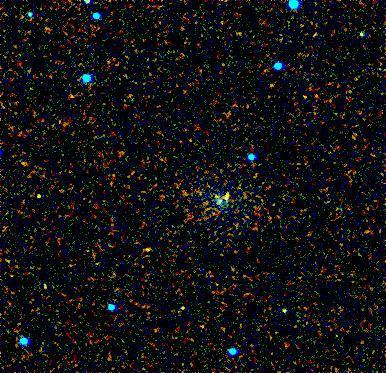star: (213, 183, 243, 213)
